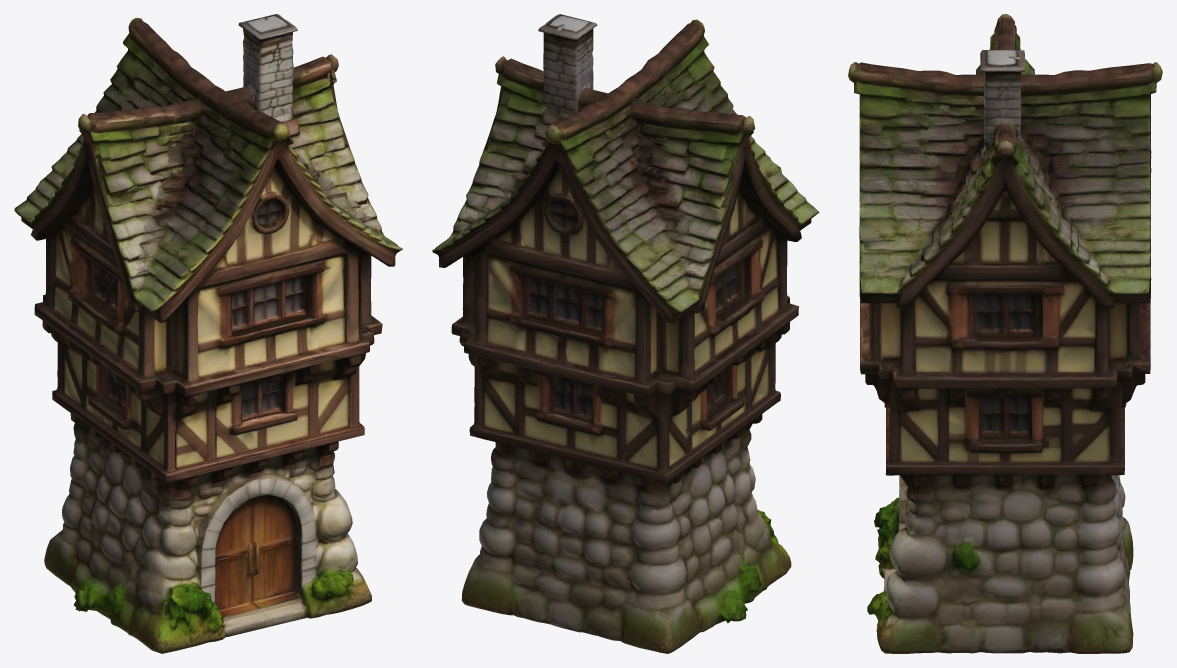
File: Timberstone_Tower_Hou.glb
3 renders of one model, left to right at view 1: azimuth 30°, elevation 25°; view 2: azimuth 150°, elevation 25°; view 3: azimuth 270°, elevation 25°, orthographic. The views are drawn at different scales.
Visible parts, largest first — view 1: Timberstone_Tower_Hou; view 2: Timberstone_Tower_Hou; view 3: Timberstone_Tower_Hou.
Part boxes in pixels (x1=…): Timberstone_Tower_Hou: x1=14, y1=14, x2=402, y2=653; Timberstone_Tower_Hou: x1=432, y1=14, x2=819, y2=653; Timberstone_Tower_Hou: x1=848, y1=14, x2=1162, y2=653.
Bounding box in the file's own units: 0.9393 × 1.91 × 0.9497.
Materials: 1 (1 with a texture image).
